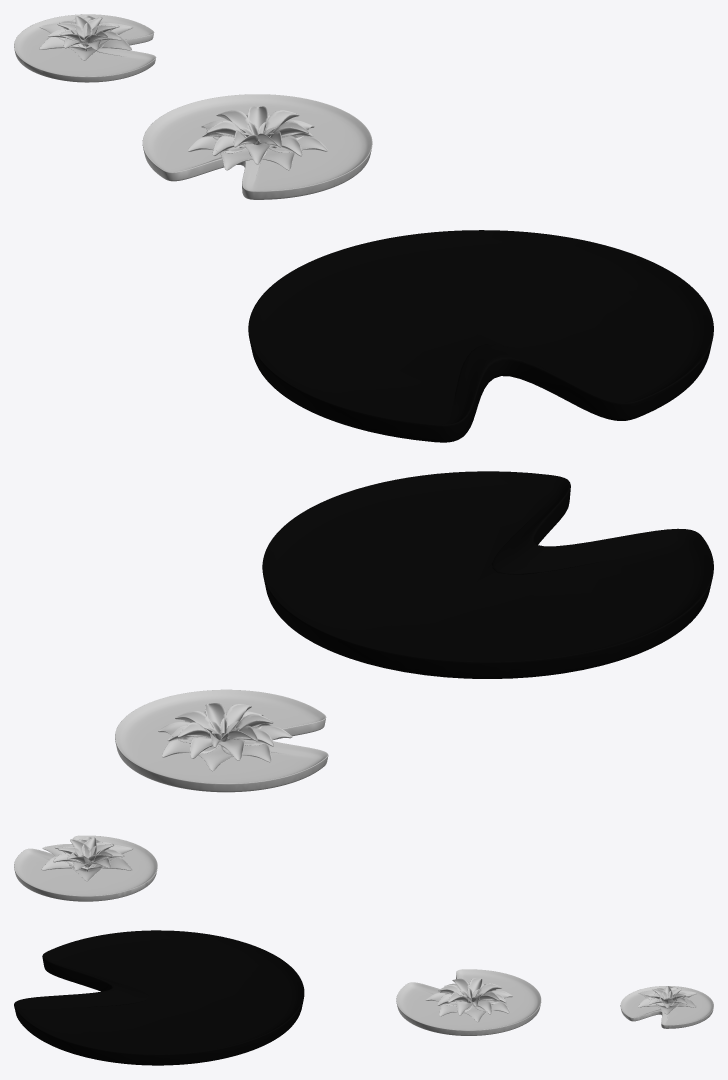
Rendered from Flores.fbx.
The picture shows the model from 3 angles, top to bottom: view 1: azimuth 30°, elevation 25°; view 2: azimuth 150°, elevation 25°; view 3: azimuth 270°, elevation 25°; orthographic projection. The views are drawn at different scales.
Visible parts, largest first — view 1: FlorBase1, Flor2, Flor1; view 2: FlorBase1, Flor2, Flor1; view 3: FlorBase1, Flor2, Flor1.
Part boxes in pixels (x1,y1,x2,y2): FlorBase1: [248, 230, 713, 442]; Flor2: [142, 94, 372, 199]; Flor1: [14, 14, 156, 82]; FlorBase1: [262, 471, 713, 678]; Flor2: [115, 689, 328, 792]; Flor1: [14, 835, 157, 901]; FlorBase1: [14, 930, 304, 1065]; Flor2: [396, 969, 541, 1035]; Flor1: [620, 986, 713, 1028].
Bounding box in the file's own units: 202 × 20.21 × 482.
